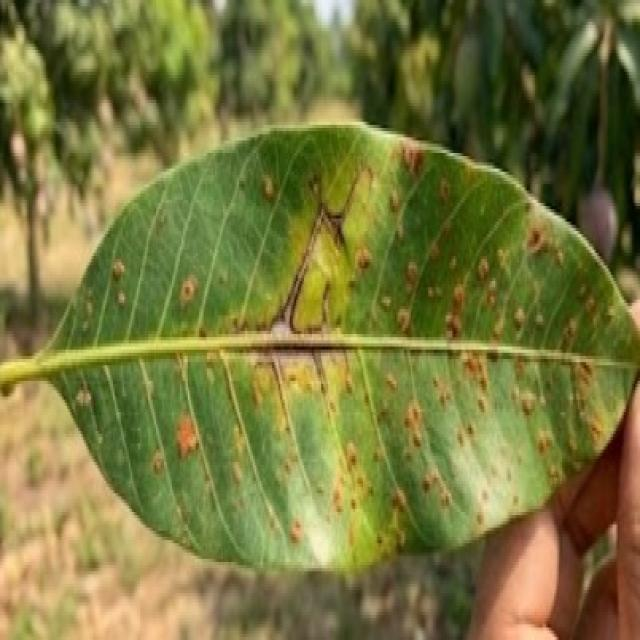gall midge: (109, 256, 133, 316), (344, 435, 364, 501), (257, 166, 279, 210), (354, 238, 374, 280)
